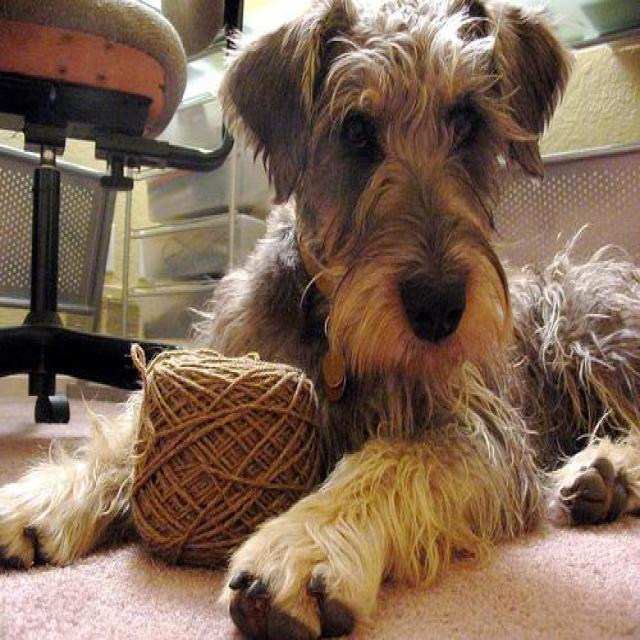standard_schnauzer: (14, 0, 638, 638)
